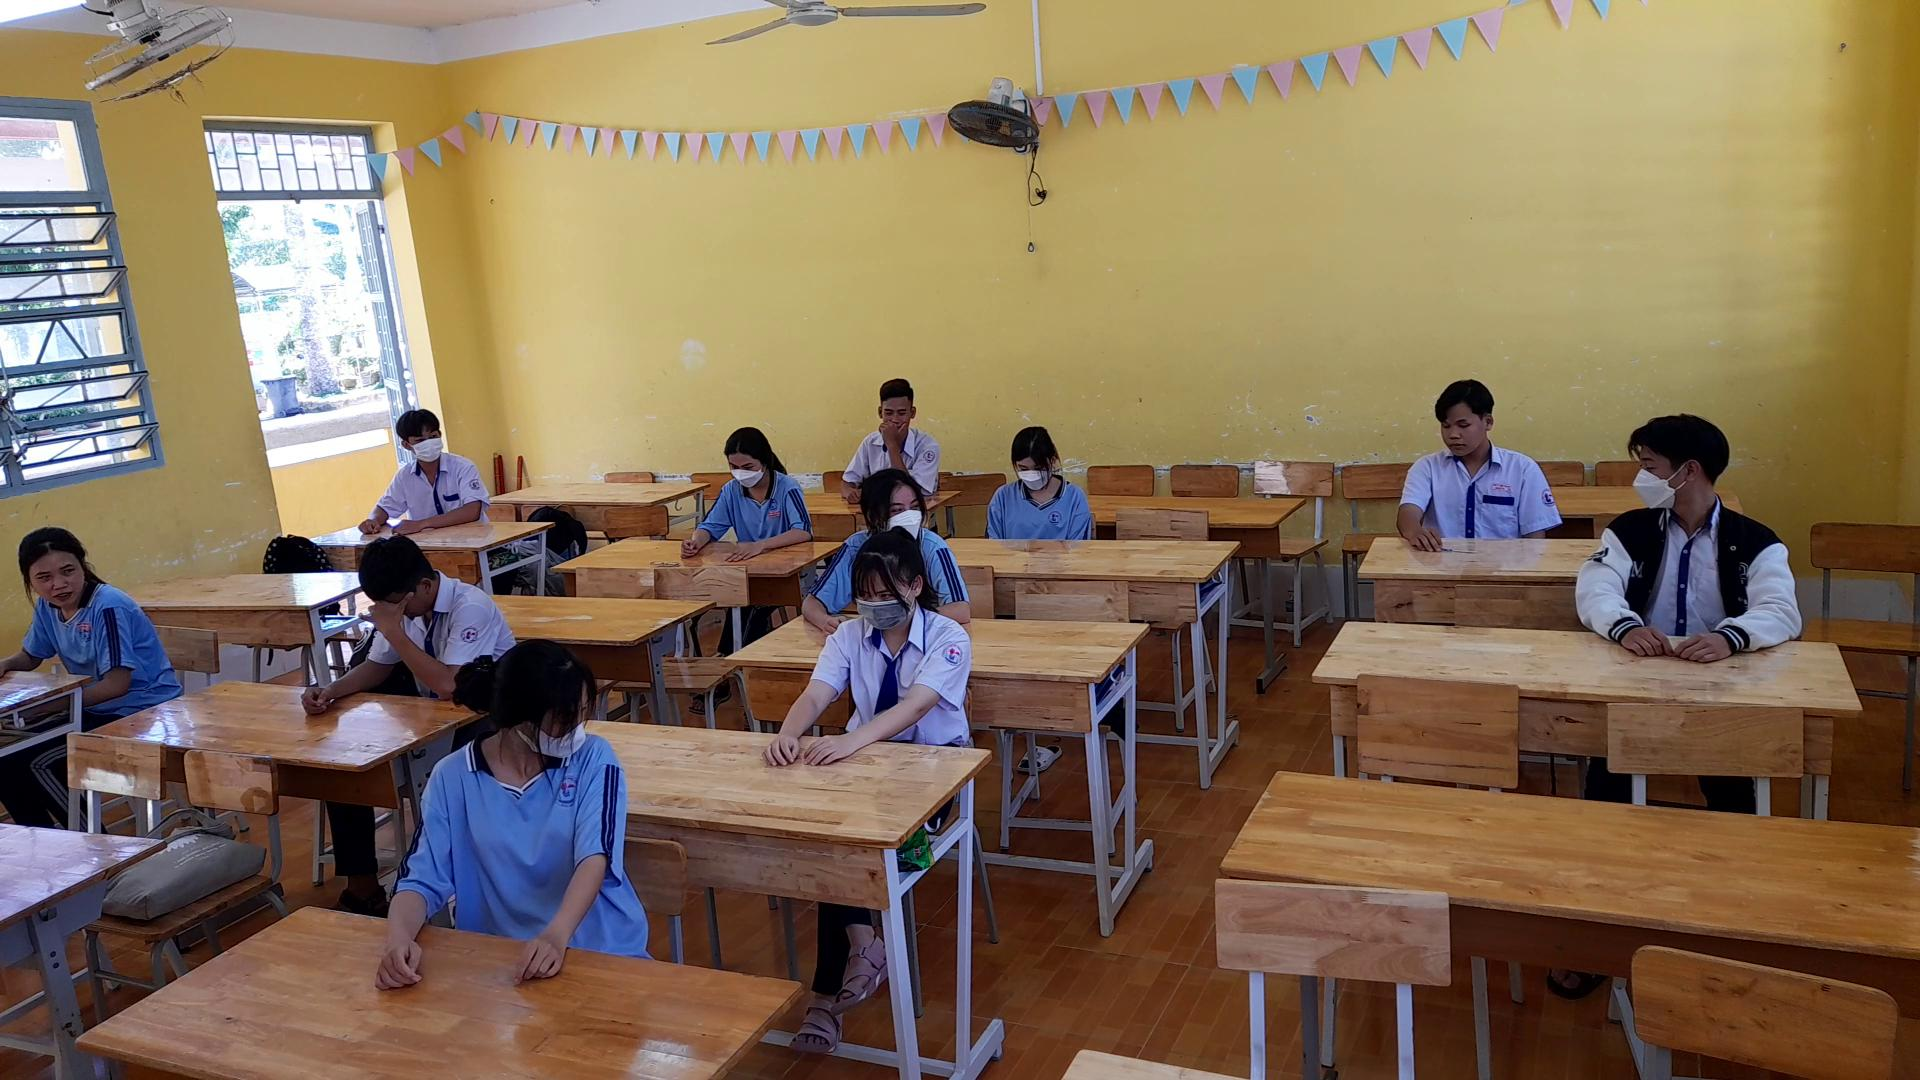Bend Over The Desk: (344, 521, 455, 626), (989, 411, 1067, 488)
Hand Under Table: (73, 593, 129, 699), (1509, 447, 1560, 549), (1058, 480, 1097, 556), (975, 477, 1007, 546)
Look Around: (444, 641, 605, 766), (1606, 404, 1741, 518), (5, 513, 105, 618)
Normal: (744, 522, 981, 782), (671, 404, 814, 571), (347, 386, 488, 541)
Wave: (352, 595, 465, 696)
